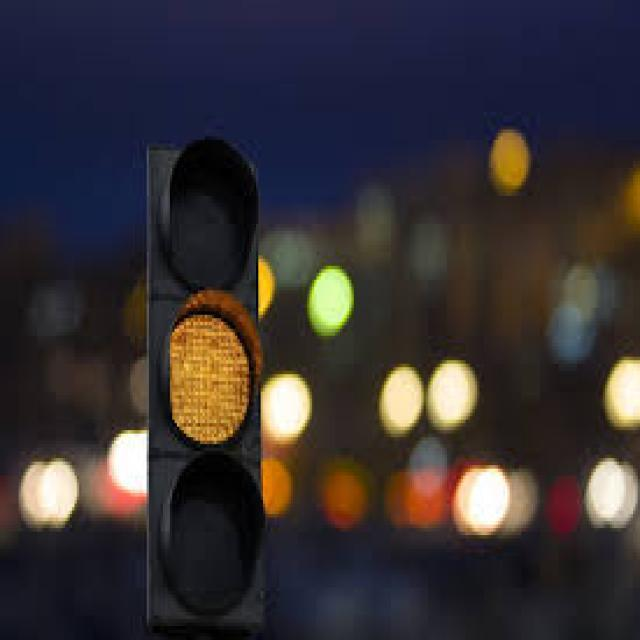yellow_light: (146, 135, 262, 636)
